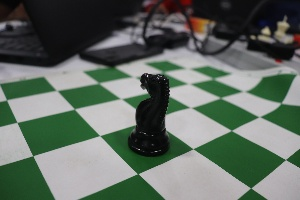black_horse: (126, 63, 173, 163)
